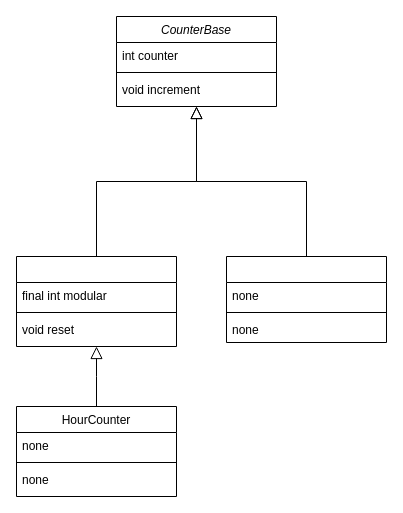
Image size: 403x513. Some labels were removed from this diagram. Each missing label, with the box of its shape:
ModularCounter: (16, 256, 176, 346)
SimpleCounter: (226, 256, 386, 342)
